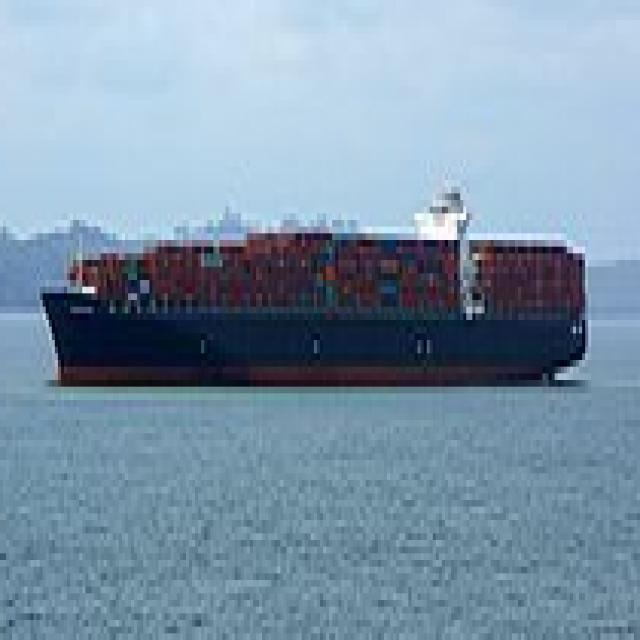Cargo: (40, 166, 594, 386)
